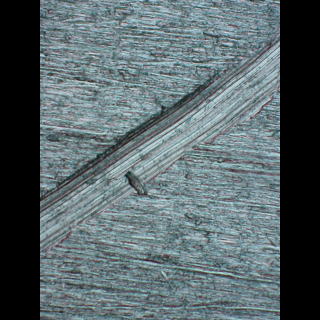d: (40, 28, 279, 259)
